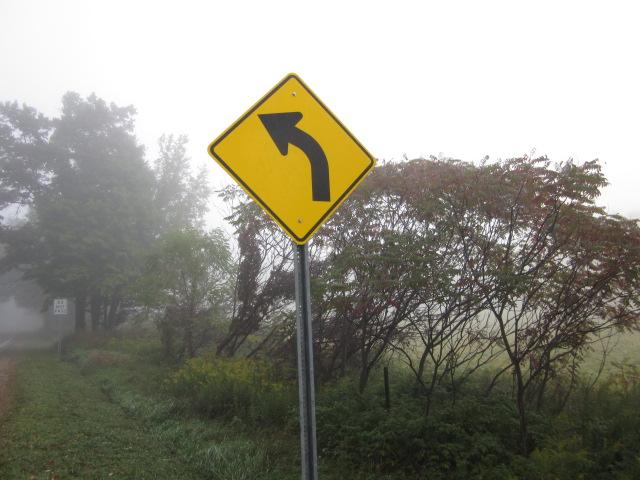warning: (196, 71, 377, 254)
